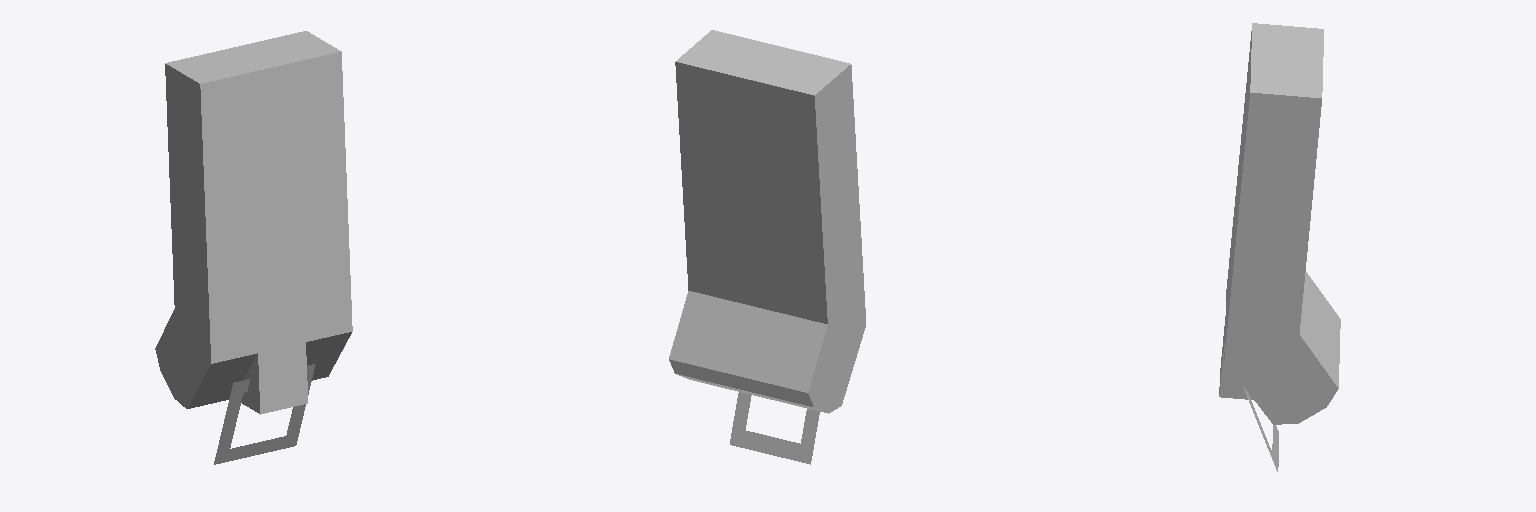
The model's file is Digivice5.obj.
The picture shows the model from 3 angles: view 1: azimuth 30°, elevation 25°; view 2: azimuth 150°, elevation 25°; view 3: azimuth 270°, elevation 25°; orthographic projection.
Visible parts, largest first — view 1: RefRep_20_1; view 2: RefRep_20_1; view 3: RefRep_20_1.
Boxes of the visible parts, x1=… form: RefRep_20_1: x1=155, y1=31, x2=352, y2=464; RefRep_20_1: x1=669, y1=30, x2=865, y2=464; RefRep_20_1: x1=1219, y1=23, x2=1340, y2=471.
Size of the model in its own units: 4.18 by 11.1 by 3.07.